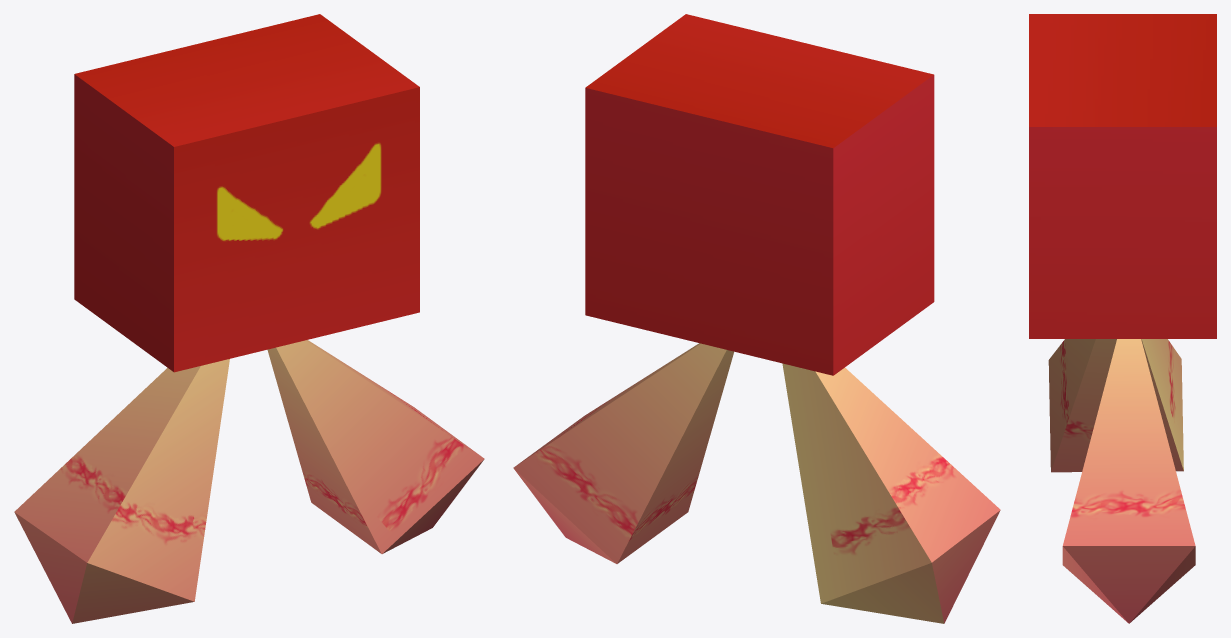
The model's file is player.obj.
The picture shows the model from 3 angles, left to right: view 1: azimuth 30°, elevation 25°; view 2: azimuth 150°, elevation 25°; view 3: azimuth 270°, elevation 25°; orthographic projection. The views are drawn at different scales.
Parts seen in each view (by area): view 1: head, leftArm, rightArm; view 2: head, leftArm, rightArm; view 3: head, rightArm, leftArm.
Part boxes in pixels (bbox=[...]): head: bbox=[74, 14, 419, 372]; leftArm: bbox=[14, 359, 229, 623]; rightArm: bbox=[267, 340, 484, 553]; head: bbox=[585, 14, 934, 375]; leftArm: bbox=[782, 363, 1000, 623]; rightArm: bbox=[513, 343, 733, 563]; head: bbox=[1029, 14, 1216, 338]; rightArm: bbox=[1062, 339, 1195, 623]; leftArm: bbox=[1048, 339, 1183, 472].
Bounding box in the file's own units: 1.52 × 1.77 × 0.6436.
